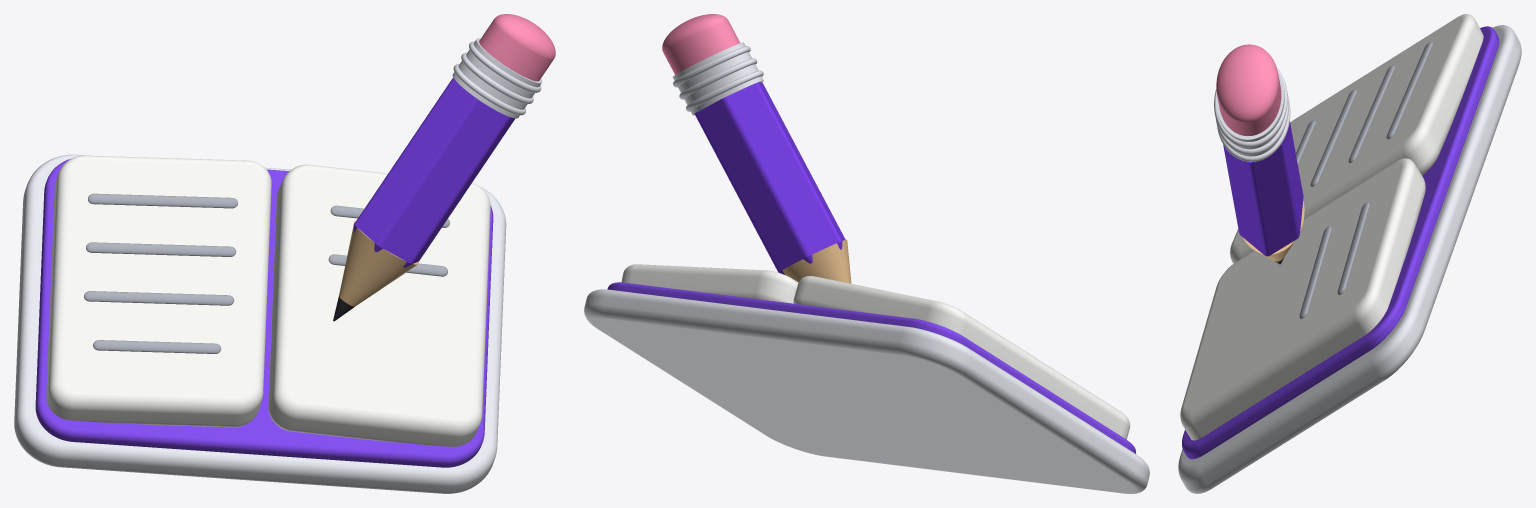
Rendered from nav-tasks-book-pencil.glb.
3 renders of one model, left to right at view 1: azimuth 30°, elevation 25°; view 2: azimuth 150°, elevation 25°; view 3: azimuth 270°, elevation 25°, orthographic. The views are drawn at different scales.
Parts seen in each view (by area): view 1: book-and-pencil, object 5, object 3, object 6, object 10, object 11, object 7, object 8, object 9; view 2: book-and-pencil, object 5, object 6, object 10, object 3, object 11; view 3: book-and-pencil, object 5, object 11, object 10, object 6, object 9, object 8, object 7.
Boxes of the visible parts, left/top/right/bottom form: book-and-pencil: left=14, top=154, right=506, bottom=493; object 5: left=354, top=77, right=515, bottom=263; object 3: left=339, top=220, right=418, bottom=306; object 6: left=452, top=38, right=542, bottom=118; object 10: left=479, top=20, right=552, bottom=81; object 11: left=493, top=14, right=555, bottom=59; object 7: left=453, top=64, right=526, bottom=115; object 8: left=461, top=52, right=533, bottom=103; object 9: left=469, top=41, right=541, bottom=92; book-and-pencil: left=584, top=264, right=1149, bottom=493; object 5: left=694, top=82, right=845, bottom=272; object 6: left=672, top=42, right=763, bottom=115; object 10: left=663, top=20, right=740, bottom=74; object 3: left=782, top=239, right=851, bottom=283; object 11: left=662, top=14, right=728, bottom=51; book-and-pencil: left=1178, top=14, right=1521, bottom=493; object 5: left=1223, top=121, right=1303, bottom=256; object 11: left=1216, top=44, right=1278, bottom=122; object 10: left=1217, top=77, right=1281, bottom=136; object 6: left=1216, top=71, right=1284, bottom=161; object 9: left=1214, top=67, right=1287, bottom=147; object 8: left=1216, top=94, right=1288, bottom=154; object 7: left=1217, top=102, right=1290, bottom=161.
Size of the model in its own units: 47.55 by 38.19 by 24.84.
